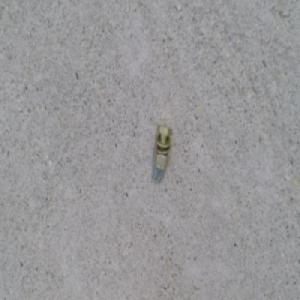BoltNutSet: (152, 123, 173, 170)
